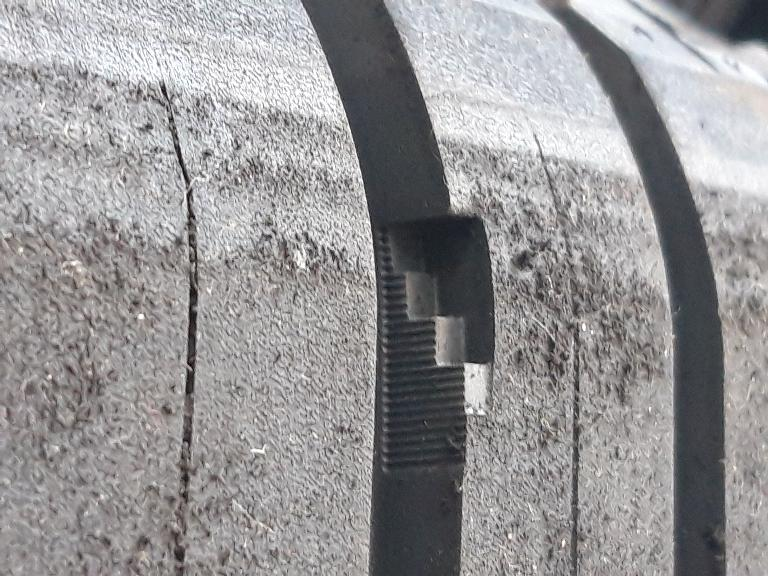temoin:75: (365, 196, 510, 434)
